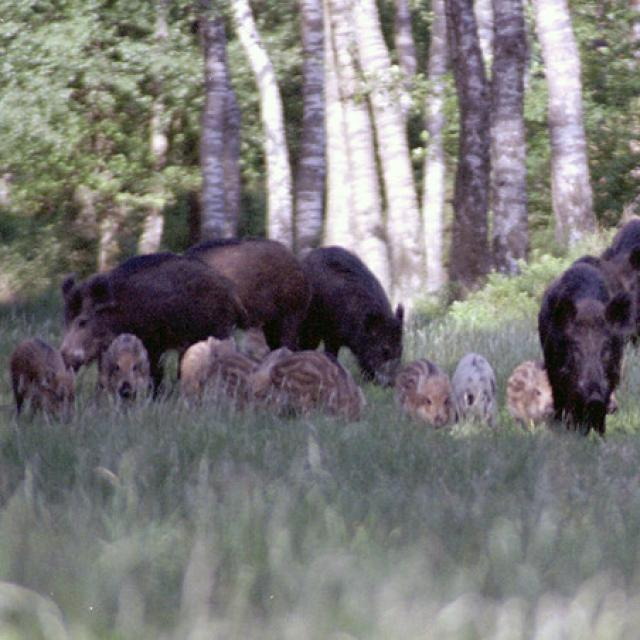boar: (55, 250, 246, 400), (115, 240, 331, 367), (283, 238, 425, 384), (536, 264, 634, 459), (259, 349, 370, 426), (7, 321, 75, 437), (390, 356, 458, 438), (97, 325, 155, 420), (177, 330, 238, 412), (446, 344, 504, 428), (506, 355, 558, 446)
